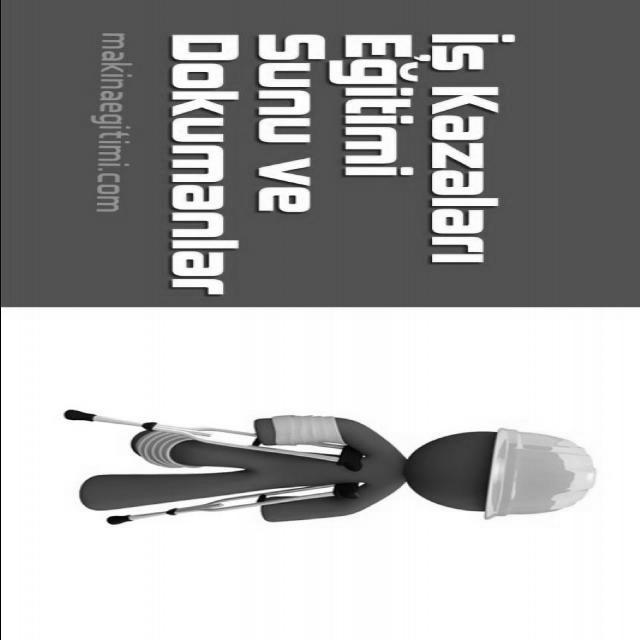construction helmet: (480, 426, 598, 524)
